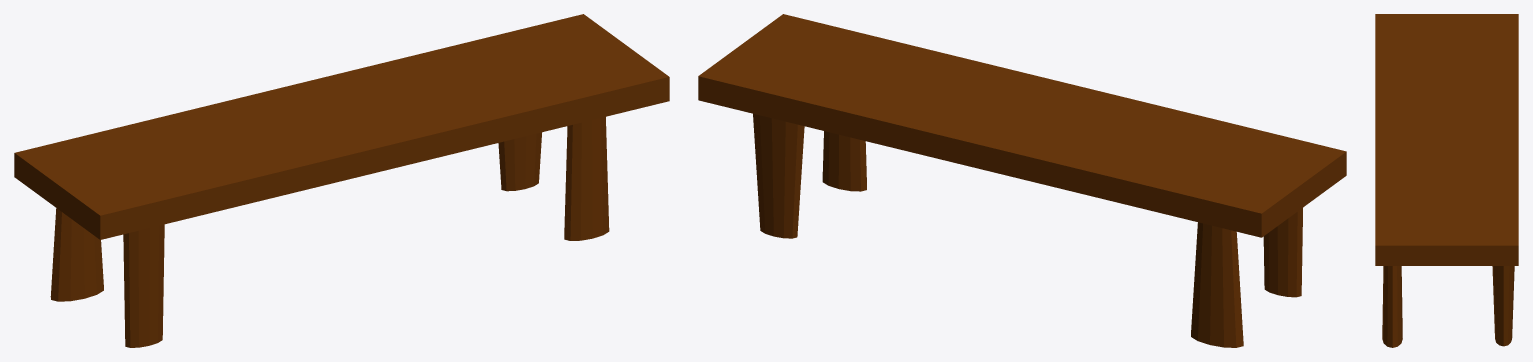
Rendered from longChair.fbx.
The picture shows the model from 3 angles, left to right: view 1: azimuth 30°, elevation 25°; view 2: azimuth 150°, elevation 25°; view 3: azimuth 270°, elevation 25°; orthographic projection. The views are drawn at different scales.
Visible parts, largest first — view 1: Cylinder.001; view 2: Cylinder.001; view 3: Cylinder.001.
Boxes of the visible parts, left/top/right/bottom form: Cylinder.001: left=14, top=14, right=669, bottom=347; Cylinder.001: left=698, top=14, right=1346, bottom=347; Cylinder.001: left=1375, top=14, right=1518, bottom=347.
Size of the model in its own units: 491 by 121 by 128.
